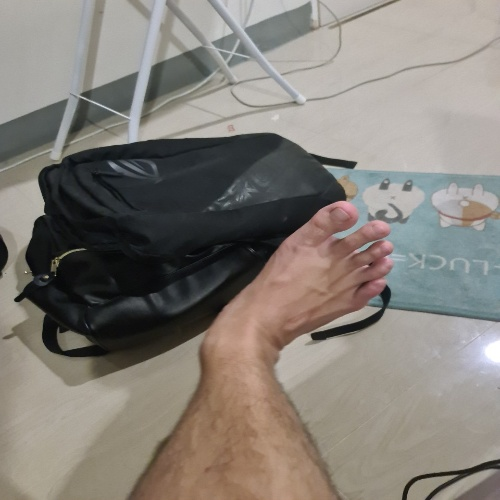3: (298, 199, 359, 237)
Top_Foot: (199, 201, 396, 354)
